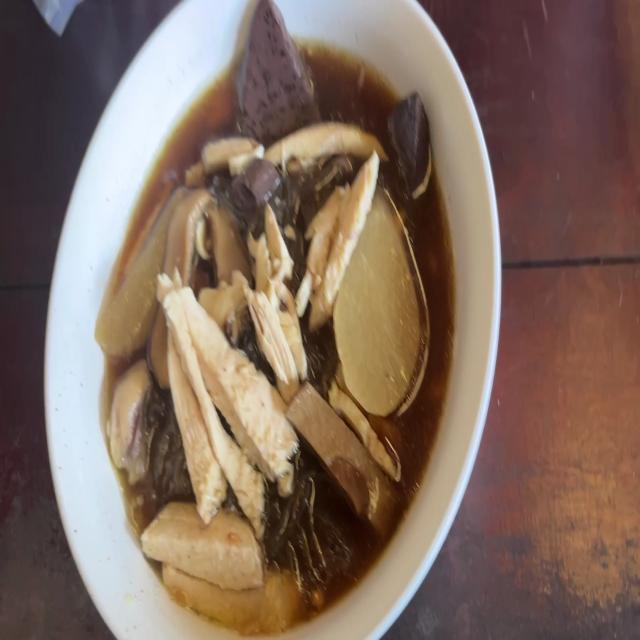noodle: (242, 6, 315, 120), (390, 89, 436, 189), (232, 168, 280, 222)
